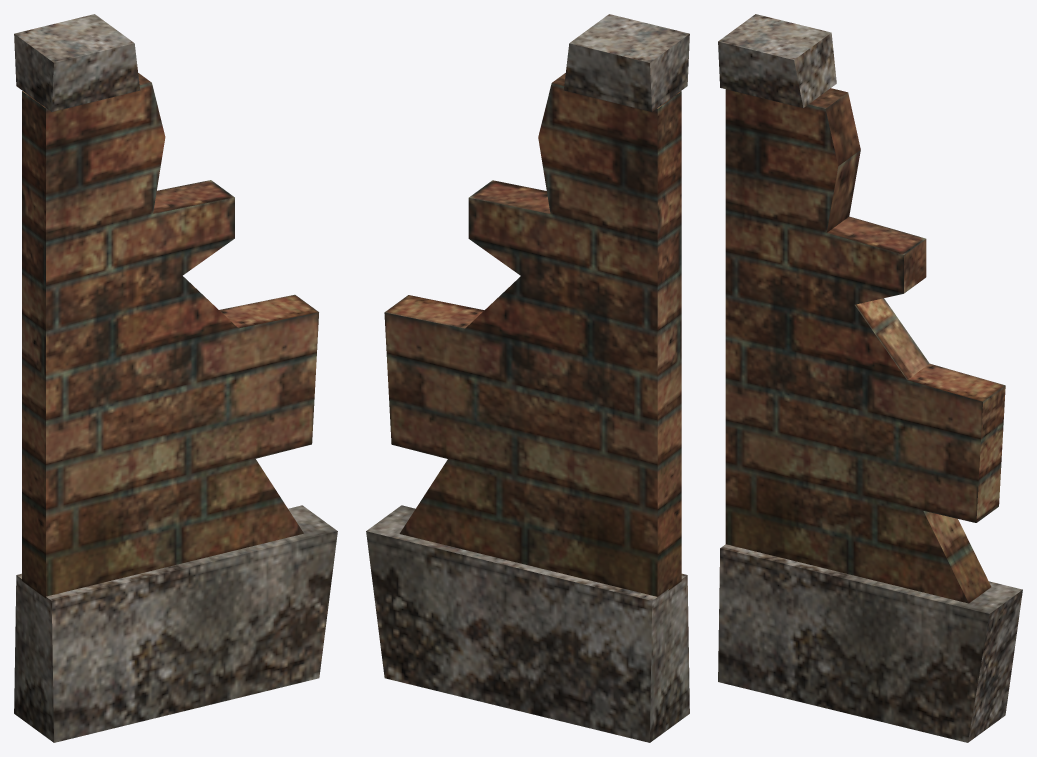
The model's file is brick_wall_0.FBX.
3 views of the same model, side by side, from view 1: azimuth 30°, elevation 25°; view 2: azimuth 150°, elevation 25°; view 3: azimuth 330°, elevation 25° (orthographic). The views are drawn at different scales.
Parts seen in each view (by area): view 1: polySurface87; view 2: polySurface87; view 3: polySurface87.
Boxes of the visible parts, x1,y1,x2,y2 form: polySurface87: (14,14,337,742); polySurface87: (366,14,689,742); polySurface87: (718,14,1022,742).
Bounding box in the file's own units: 0.4881 × 1.11 × 0.1181.
